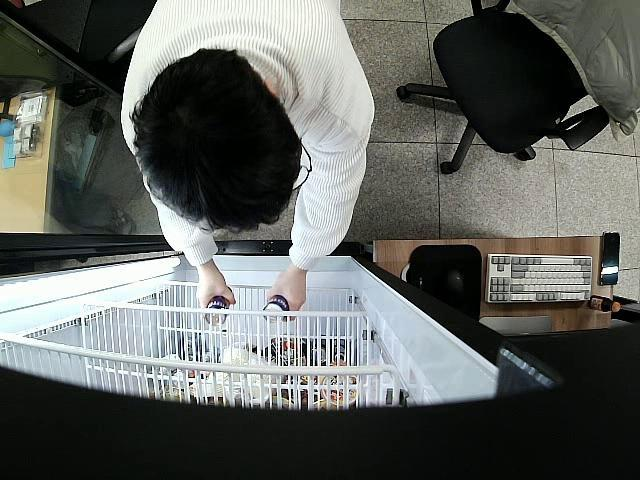16_hot6: (205, 284, 234, 325), (263, 298, 290, 325)
